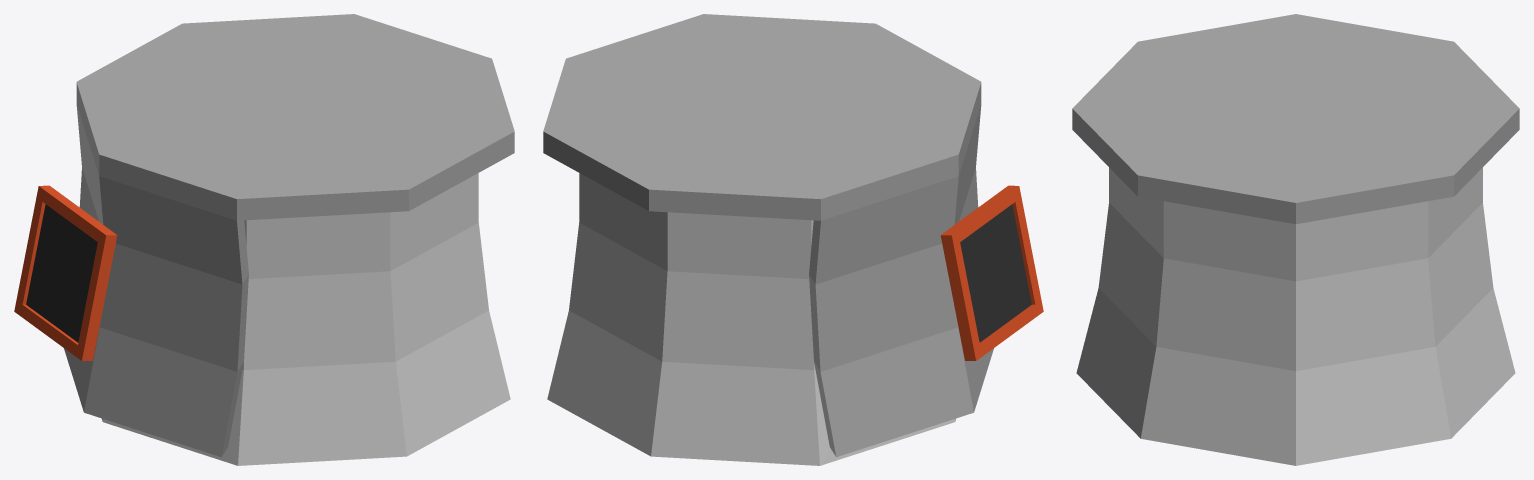
Rendered from Painel.fbx.
The picture shows the model from 3 angles, left to right: view 1: azimuth 30°, elevation 25°; view 2: azimuth 150°, elevation 25°; view 3: azimuth 270°, elevation 25°; orthographic projection.
Visible parts, largest first — view 1: Cylinder.074, Cylinder.011; view 2: Cylinder.074, Cylinder.011; view 3: Cylinder.011, Cylinder.074.
Boxes of the visible parts, x1,y1,x2,y2 form: Cylinder.074: [14, 14, 514, 457]; Cylinder.011: [101, 173, 510, 465]; Cylinder.074: [543, 14, 1043, 457]; Cylinder.011: [547, 173, 956, 465]; Cylinder.011: [1076, 167, 1515, 465]; Cylinder.074: [1072, 14, 1519, 224].
Size of the model in its own units: 317 by 183 by 280.
